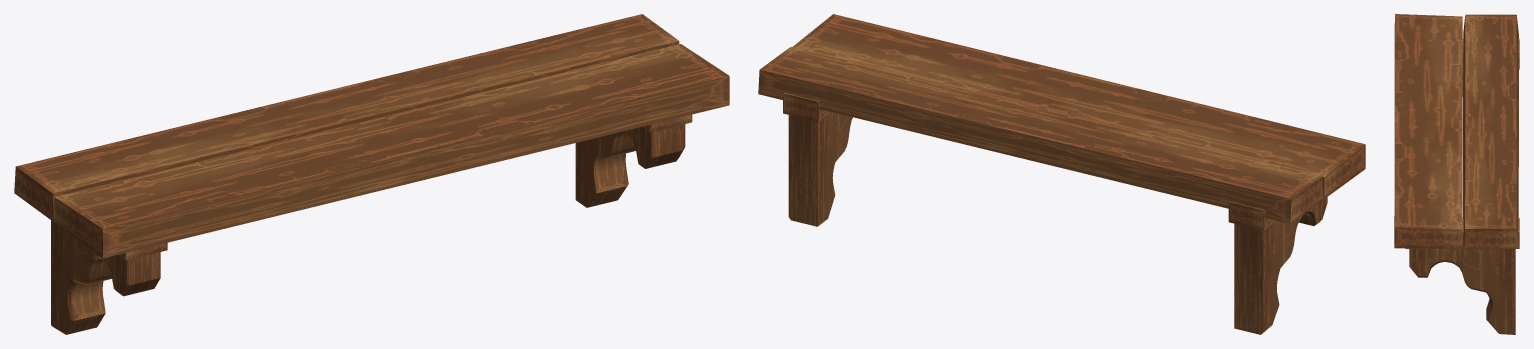
The model's file is Shelf_Simple.gltf.
The picture shows the model from 3 angles, left to right: view 1: azimuth 30°, elevation 25°; view 2: azimuth 150°, elevation 25°; view 3: azimuth 270°, elevation 25°; orthographic projection. The views are drawn at different scales.
Parts seen in each view (by area): view 1: Shelf_Simple; view 2: Shelf_Simple; view 3: Shelf_Simple.
Boxes of the visible parts, left/top/right/bottom form: Shelf_Simple: left=14, top=14, right=729, bottom=334; Shelf_Simple: left=758, top=14, right=1365, bottom=334; Shelf_Simple: left=1394, top=14, right=1519, bottom=334.
Size of the model in its own units: 1.18 by 0.3087 by 0.2923.
Materials: 1 (1 with a texture image).
